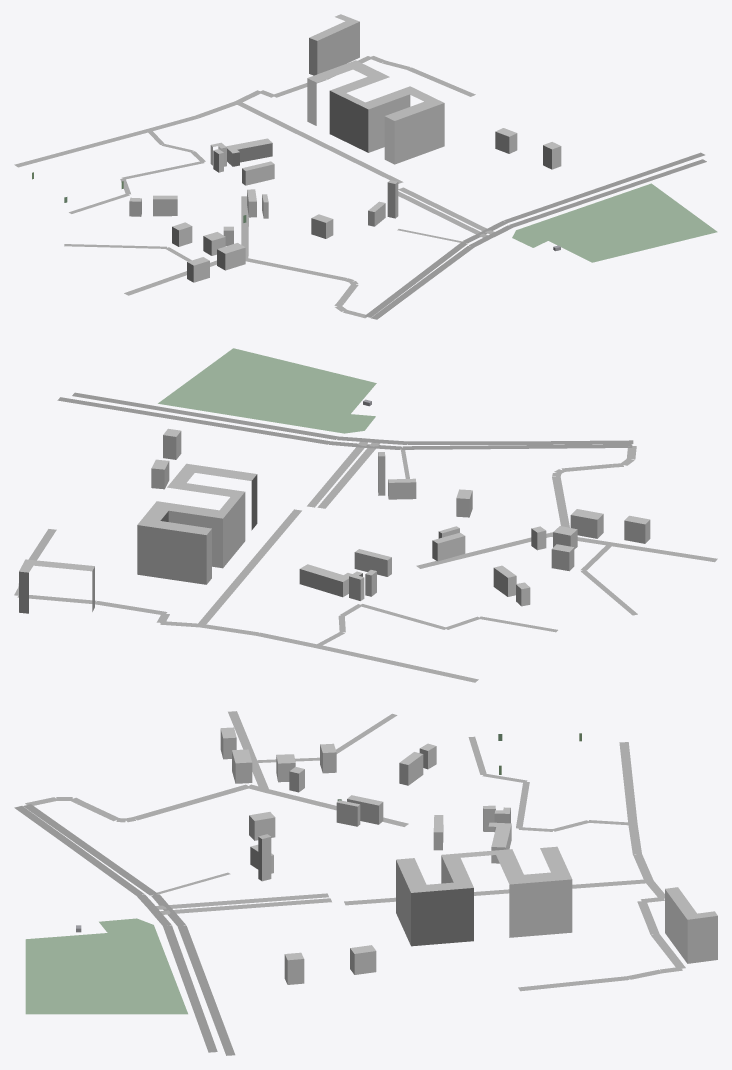
3 views of the same model, one above another, from view 1: azimuth 30°, elevation 25°; view 2: azimuth 150°, elevation 25°; view 3: azimuth 270°, elevation 25° (orthographic). The views are drawn at different scales.
Bounding box in the file's own units: 611 × 44.69 × 526.
